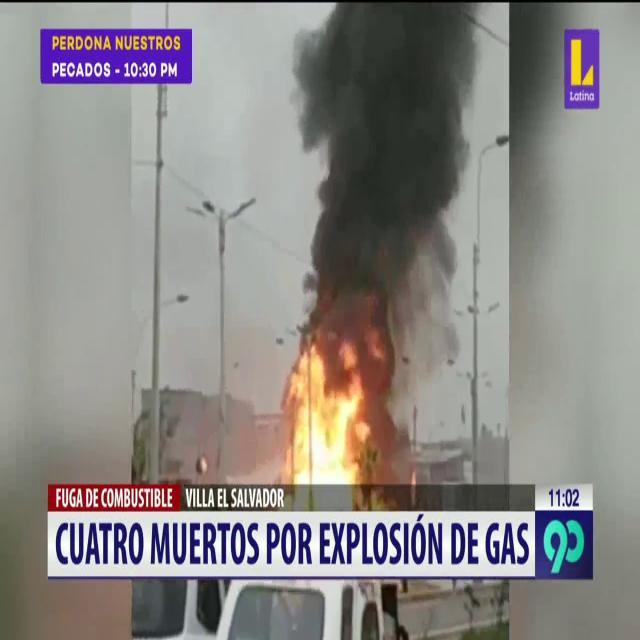Fire: (278, 339, 374, 489)
Smoke: (510, 2, 640, 634), (279, 1, 486, 386)
